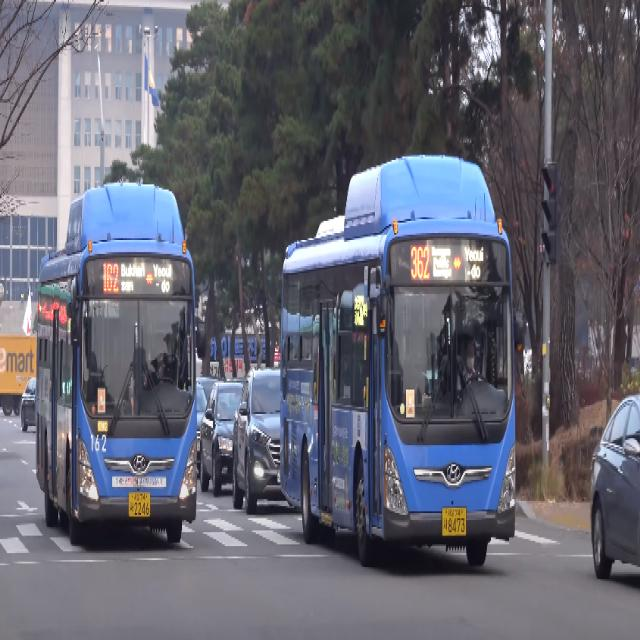bus-number: (410, 246, 431, 280), (102, 262, 120, 294)
